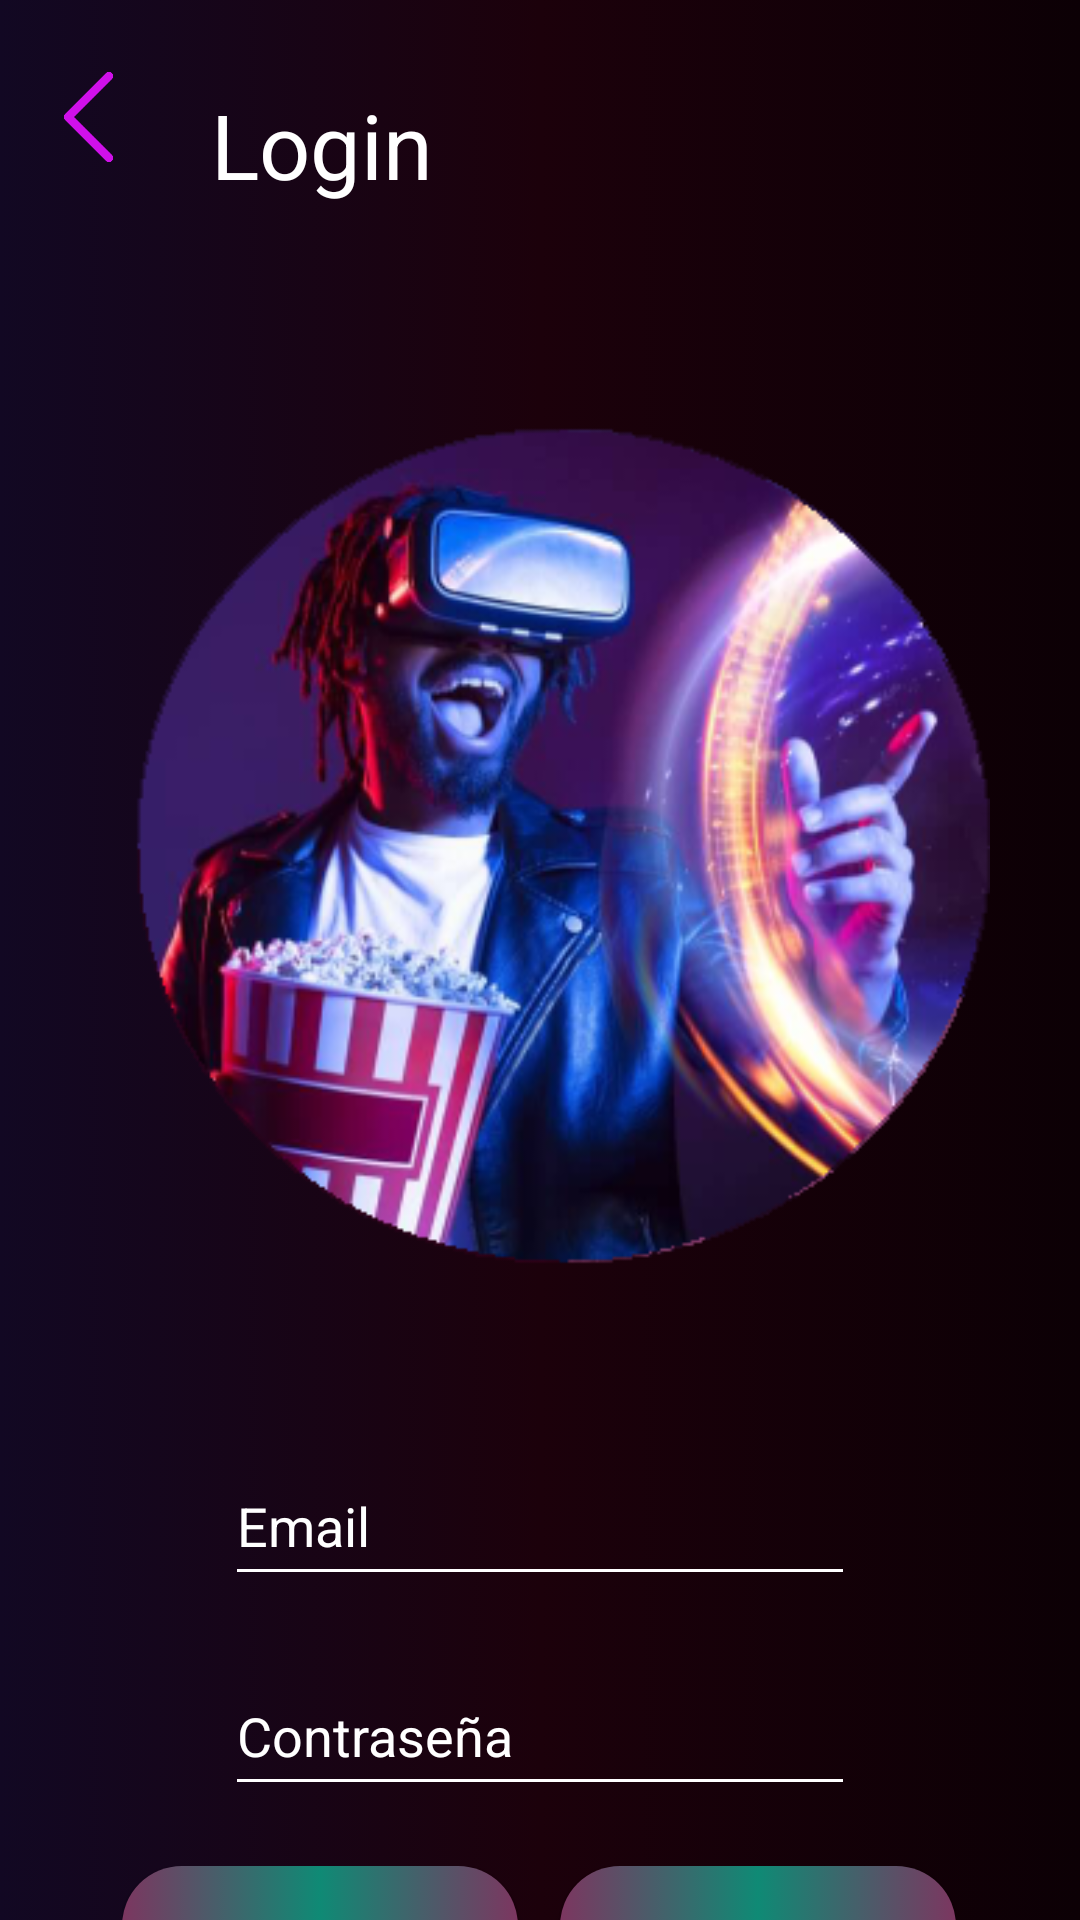

Icons on this 1080 x 1920 Android screen, each with the point to tap as (x,y):
left arrow: (88,117)
